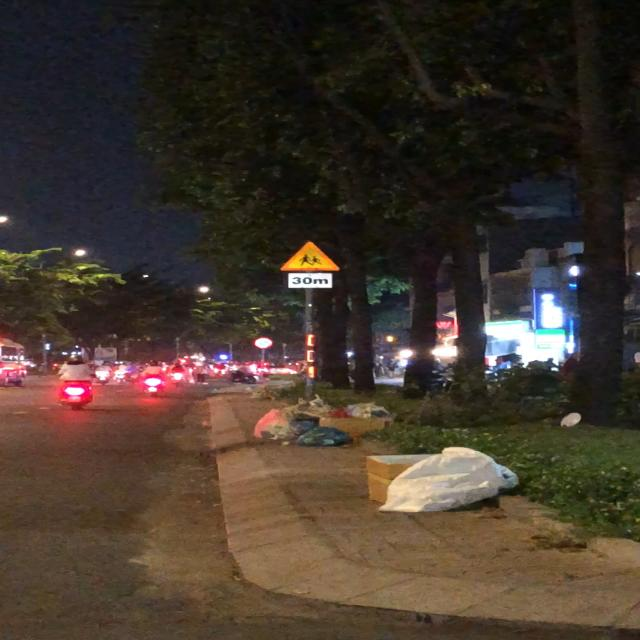Bien bao tre em: (278, 238, 340, 272)
